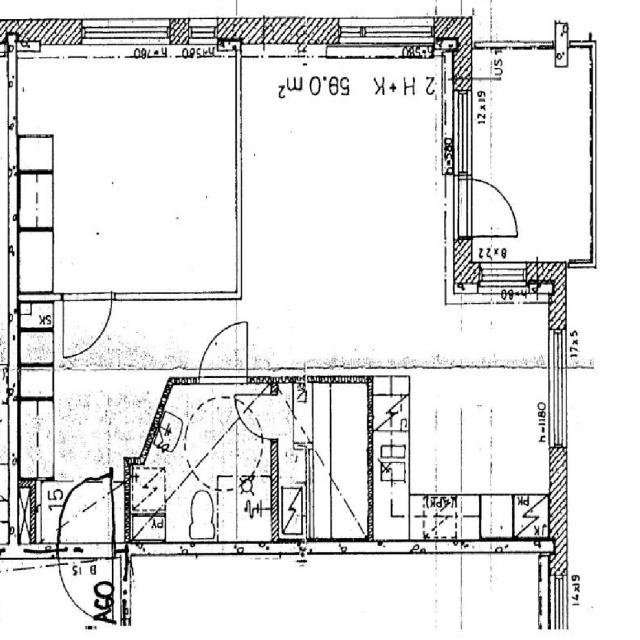door: (58, 473, 113, 554), (58, 540, 113, 620), (452, 179, 518, 237), (62, 292, 111, 360), (200, 319, 247, 383), (233, 394, 277, 439)
